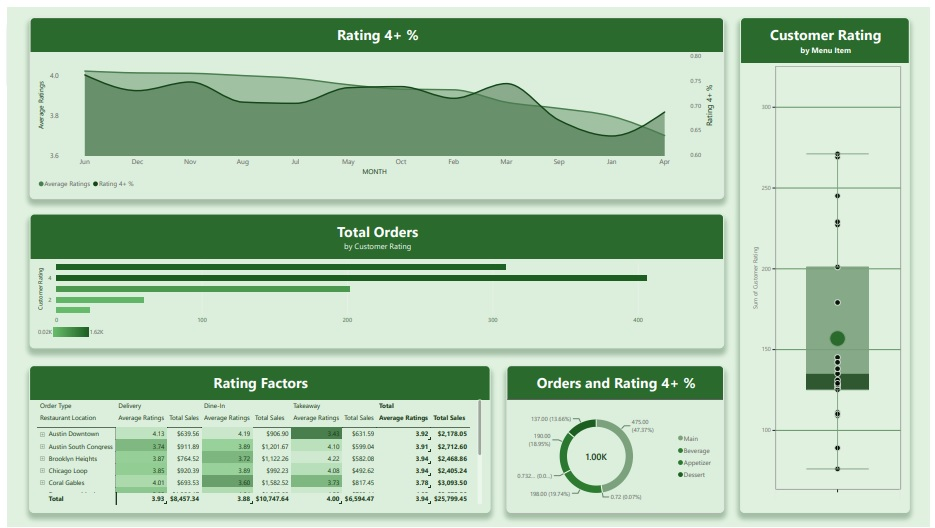

The dashboard page shown, as its layout file describes it:
{"tool":"powerbi","page":{"name":"Customer Analytics and Satisfaction","canvas":[1920,1080],"ordinal":2},"visuals":[{"type":"barChart","fields":{"Category":["Restaurant Sales.Customer Rating"],"Y":["Restaurant Sales.Total Orders"]},"box":[47.5,427.5,1445,280],"z":0},{"type":"areaChart","title":"Rating 4+ %","fields":{"Category":["Calendar.MONTH"],"Y":["Restaurant Sales.Average Ratings"],"Y2":["Restaurant Sales.Rating 4+ %"]},"box":[47.5,20,1445,377.5],"z":1000},{"type":"pivotTable","title":"Rating Factors","fields":{"Columns":["Restaurant Sales.Order Type"],"Rows":["Locations.Restaurant Location","Restaurant Sales.Category"],"Values":["select","Restaurant Sales.Average Ratings","Restaurant Sales.Total Sales"]},"box":[46.7,743.3,960,306.7],"z":2000},{"type":"BoxandWhiskerByMAQ1823AD39DT234AB532063E128AX","title":"Customer Rating","fields":{"category":["Restaurant Sales.Menu Item"],"measure":["Sum(Restaurant Sales.Customer Rating)"]},"box":[1525.7,20,352.9,1030],"z":3000},{"type":"donutChart","title":"Orders and Rating 4+ %","fields":{"Category":["Restaurant Sales.Category"],"Y":["Restaurant Sales.Total Orders","Restaurant Sales.Rating 4+ %"]},"box":[1040,742.9,452.9,307.1],"z":4000}]}

Visuals, with their boxes in screenshot pixels (x1, y1, x2, y2), scaled from the page's 1920x1080 canvas onto the 935x528 screenshot:
barChart - Restaurant Sales.Customer Rating x Restaurant Sales.Total Orders: x1=23, y1=209, x2=727, y2=346
"Rating 4+ %" areaChart: x1=23, y1=10, x2=727, y2=194
"Rating Factors" pivotTable: x1=23, y1=363, x2=490, y2=513
"Customer Rating" BoxandWhiskerByMAQ1823AD39DT234AB532063E128AX: x1=743, y1=10, x2=915, y2=513
"Orders and Rating 4+ %" donutChart: x1=506, y1=363, x2=727, y2=513
